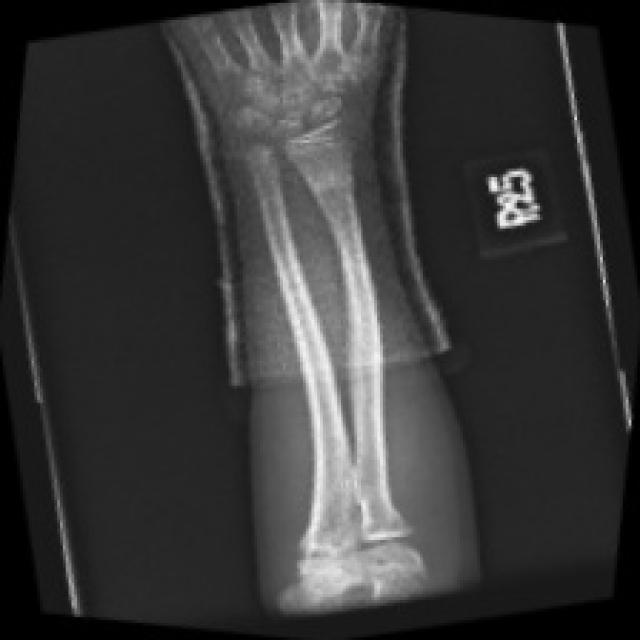fracture: (284, 500, 435, 592)
